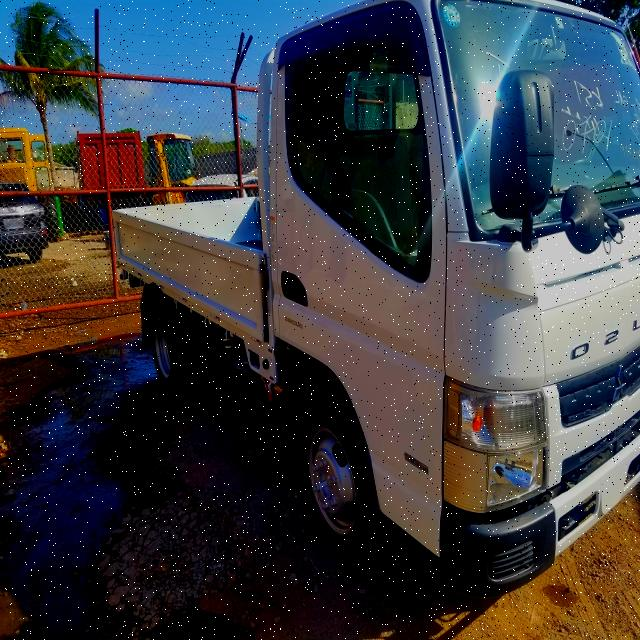truck: (112, 0, 640, 592)
